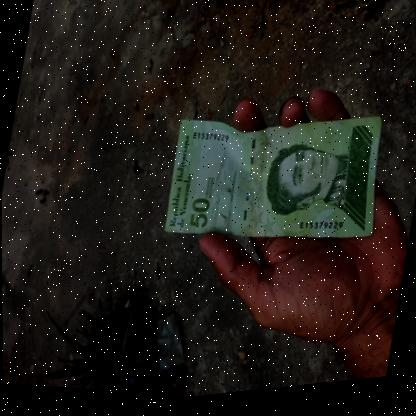fifty-front-vef: (161, 88, 394, 272)
